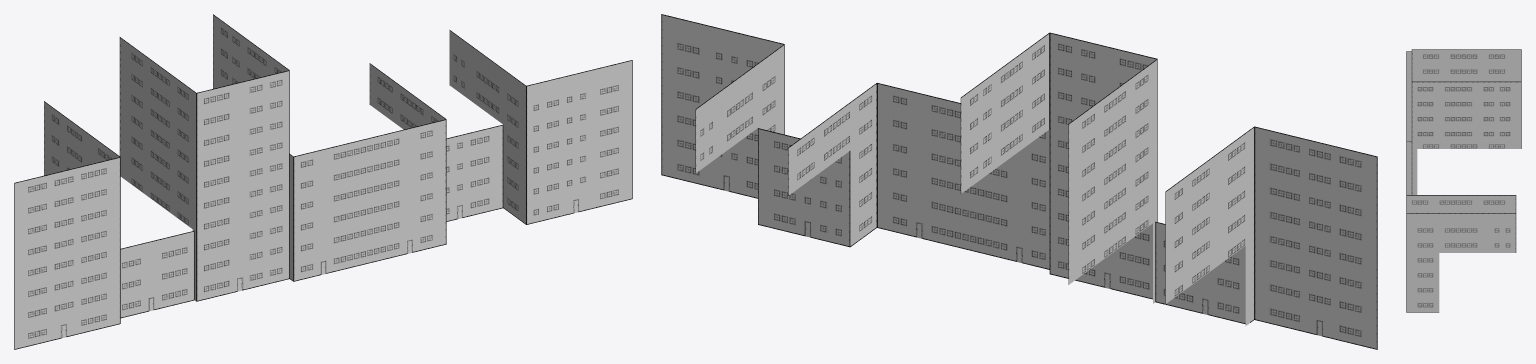
The model's file is prologue-building-col.glb.
The picture shows the model from 3 angles, left to right: view 1: azimuth 30°, elevation 25°; view 2: azimuth 150°, elevation 25°; view 3: azimuth 270°, elevation 25°; orthographic projection. The views are drawn at different scales.
Parts seen in each view (by area): view 1: building-col; view 2: building-col; view 3: building-col.
Boxes of the visible parts, x1,y1,x2,y2 form: building-col: [14, 14, 632, 349]; building-col: [661, 14, 1377, 349]; building-col: [1406, 49, 1521, 312].
Size of the model in its own units: 186 by 60 by 42.
Materials: 1 (1 with a texture image).
